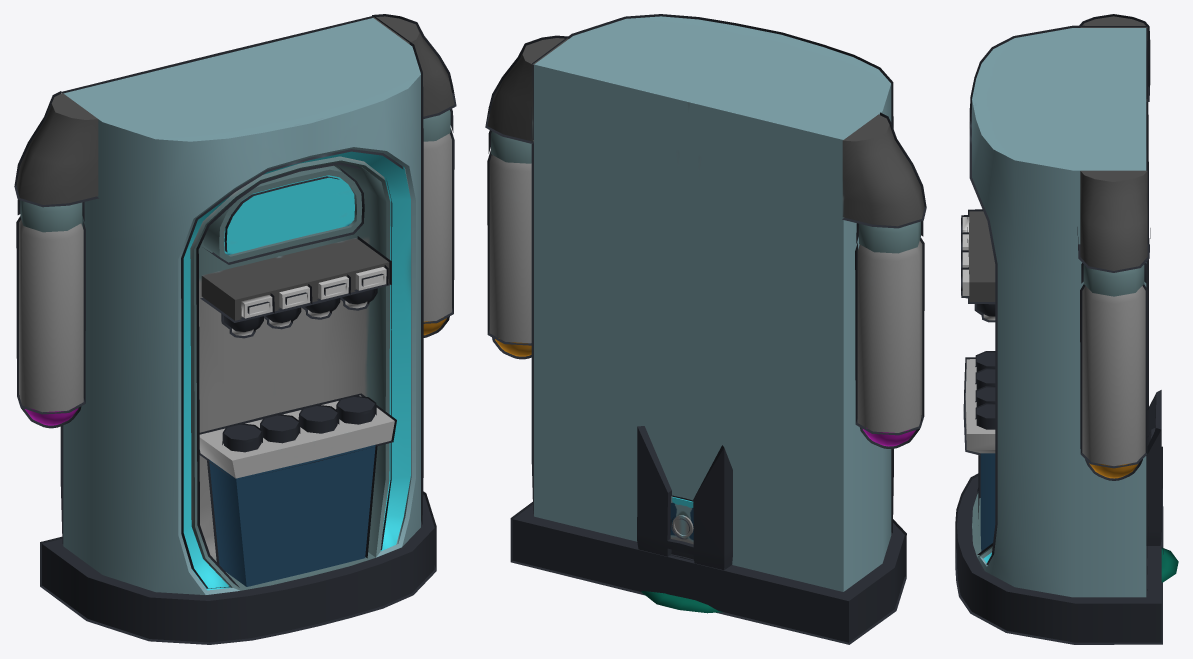
File: Drinks&FriesCup&Spatula.fbx
3 views of the same model, side by side, from view 1: azimuth 30°, elevation 25°; view 2: azimuth 150°, elevation 25°; view 3: azimuth 270°, elevation 25° (orthographic). The views are drawn at different scales.
Parts seen in each view (by area): view 1: DrinkMachine; view 2: DrinkMachine, FriesCup_Large, BlueRing; view 3: DrinkMachine, FriesCup_Large, BlueRing.
Boxes of the visible parts, x1,y1,x2,y2 form: DrinkMachine: [14, 14, 456, 644]; DrinkMachine: [485, 14, 926, 644]; FriesCup_Large: [637, 426, 732, 570]; BlueRing: [641, 591, 722, 613]; DrinkMachine: [955, 14, 1163, 644]; FriesCup_Large: [1146, 390, 1161, 545]; BlueRing: [1161, 547, 1178, 582].
Bounding box in the file's own units: 279 × 307 × 131.
